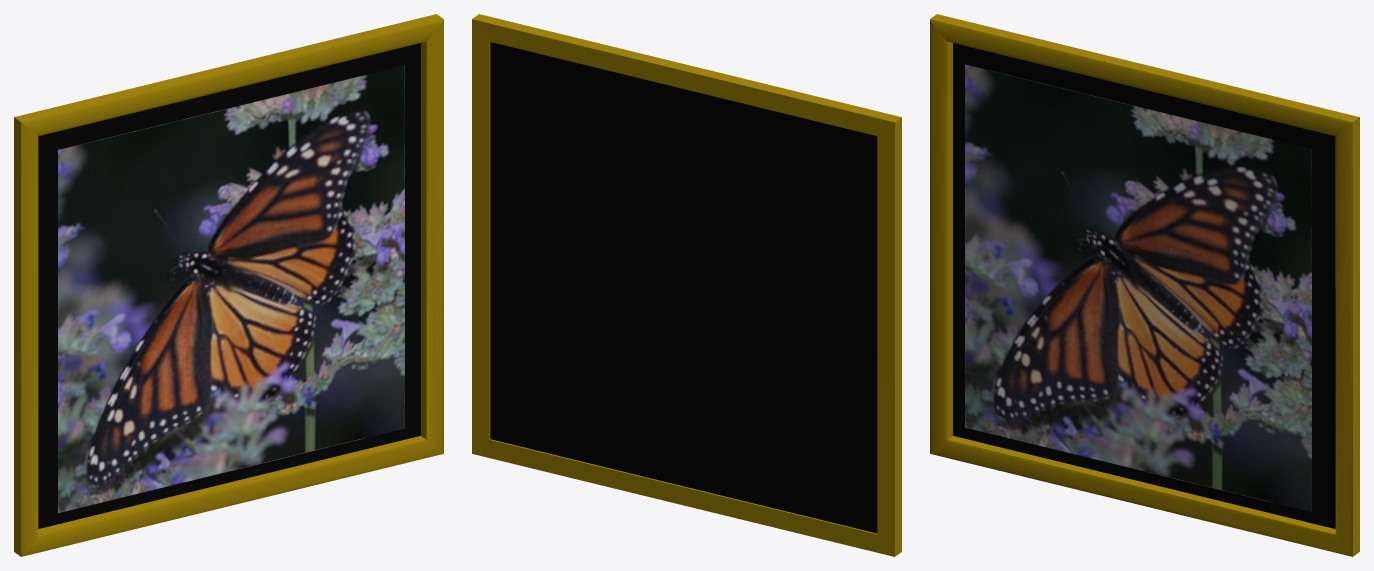
The model's file is butterfly_06a4a6b9.glb.
The picture shows the model from 3 angles, left to right: view 1: azimuth 30°, elevation 25°; view 2: azimuth 150°, elevation 25°; view 3: azimuth 330°, elevation 25°; orthographic projection.
Parts seen in each view (by area): view 1: Object_3, Object_4, Object_2; view 2: Object_2, Object_4; view 3: Object_3, Object_4, Object_2.
Part boxes in pixels (x1,y1,x2,y2): Object_3: [58, 65, 404, 513]; Object_4: [14, 14, 443, 556]; Object_2: [38, 43, 420, 528]; Object_2: [490, 42, 877, 533]; Object_4: [472, 14, 901, 556]; Object_3: [965, 64, 1311, 512]; Object_4: [930, 14, 1359, 556]; Object_2: [953, 43, 1335, 528].
Size of the model in its own units: 48.72 by 47.86 by 1.6.
3 materials, 1 textured.
